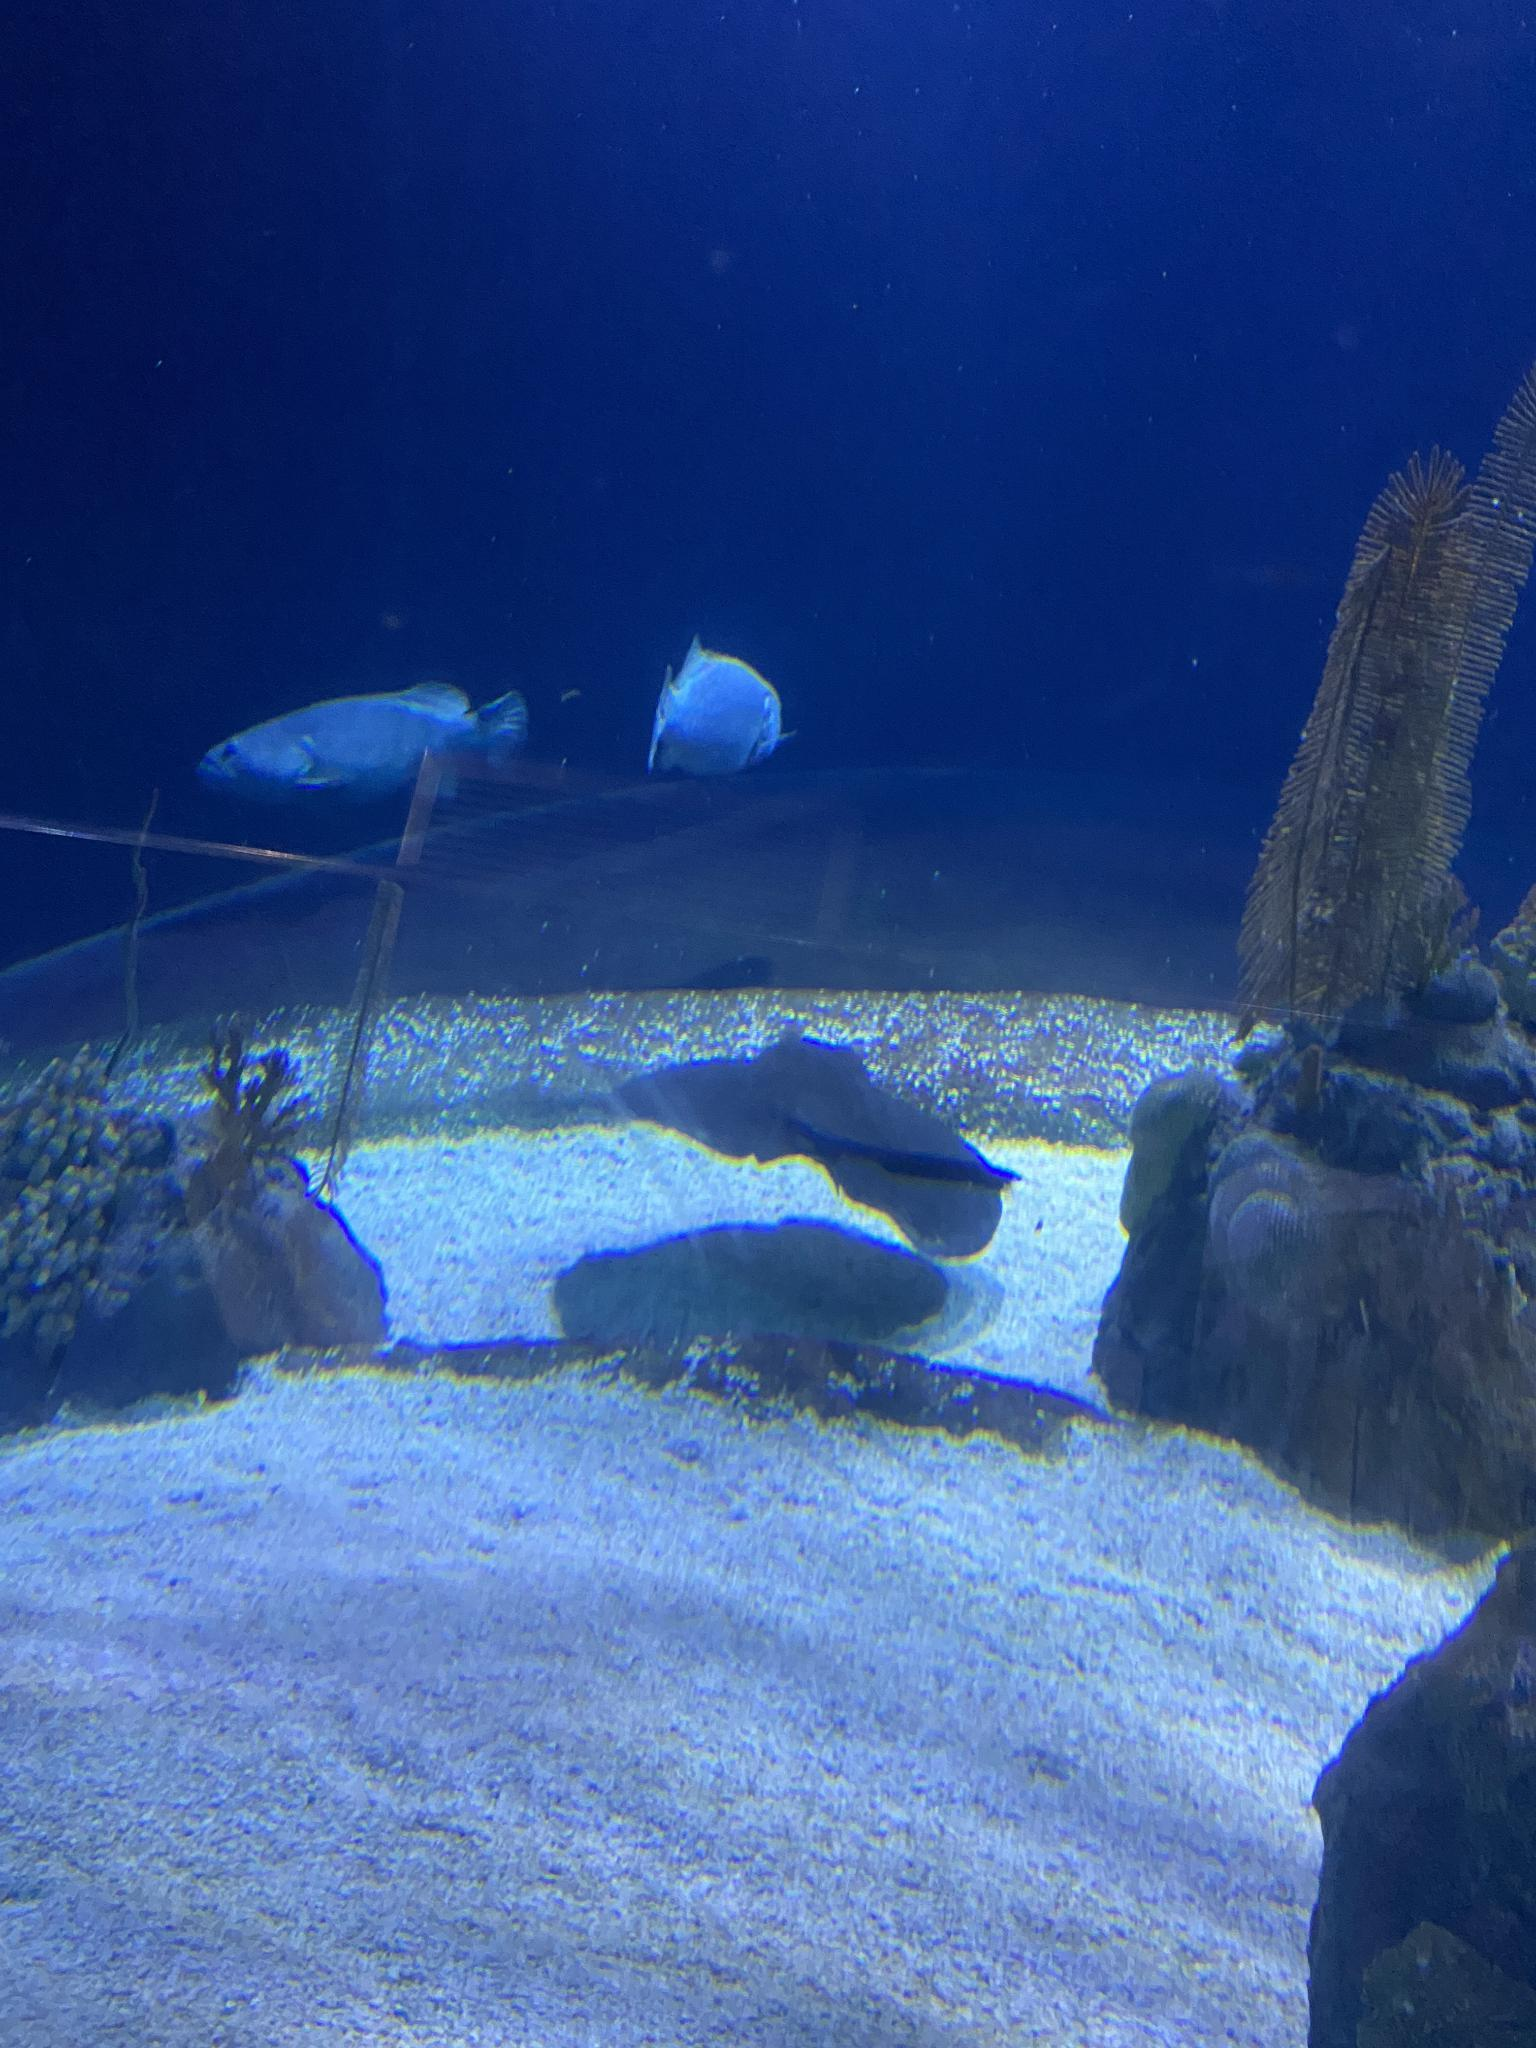fish: (194, 685, 523, 797), (649, 642, 783, 776)
stingray: (611, 1029, 1004, 1259)
